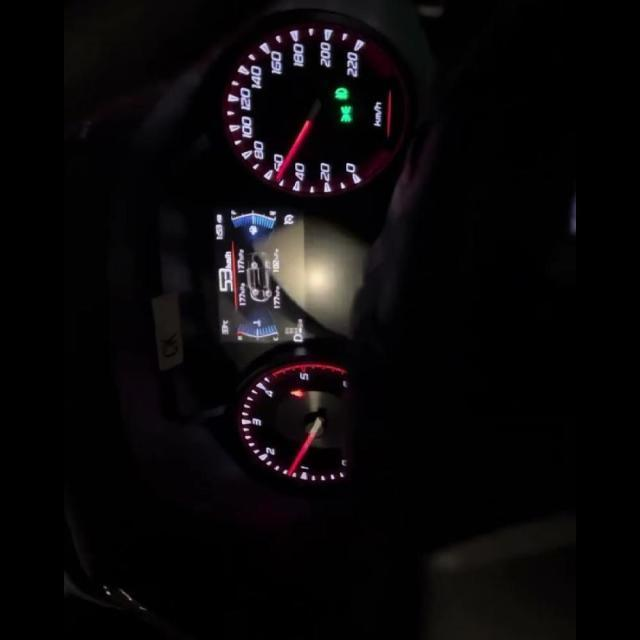Seat Belt: (290, 388, 304, 398)
